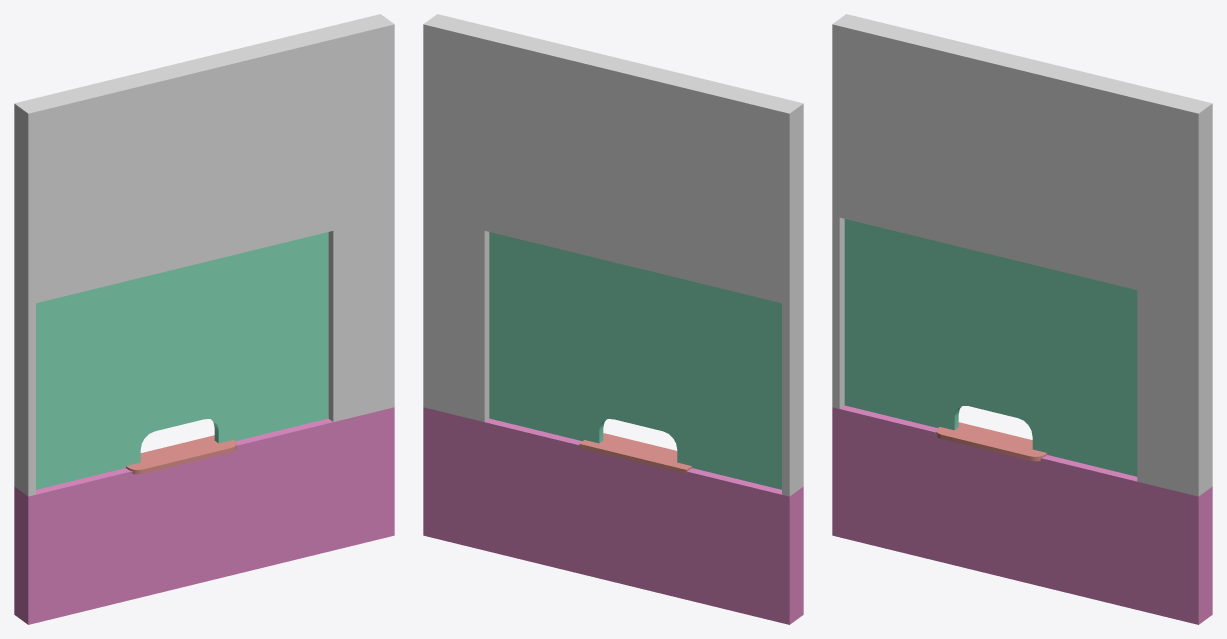
Rendered from WallOffice5.fbx.
3 views of the same model, side by side, from view 1: azimuth 30°, elevation 25°; view 2: azimuth 150°, elevation 25°; view 3: azimuth 330°, elevation 25° (orthographic).
Visible parts, largest first — view 1: WallOffice5; view 2: WallOffice5; view 3: WallOffice5.
Part boxes in pixels (<box>): WallOffice5: <box>14,14,394,624</box>; WallOffice5: <box>423,14,803,624</box>; WallOffice5: <box>832,14,1212,624</box>.
Bounding box in the file's own units: 3 × 4 × 0.2437.
